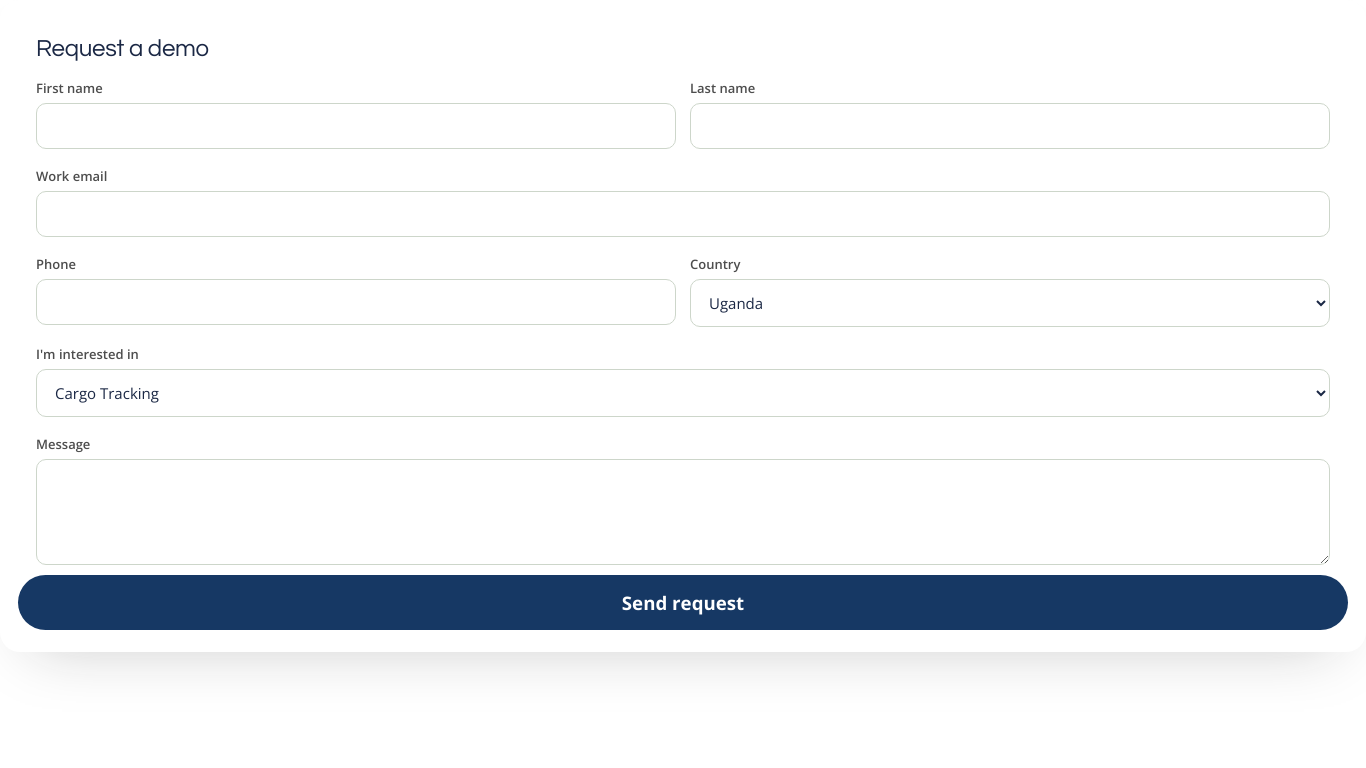
Test: ContactForm › submitting a complete form shows the sent state
Type "Ada" into the field labelled "First name" at (356, 126), box left=36, top=103, right=676, bottom=149
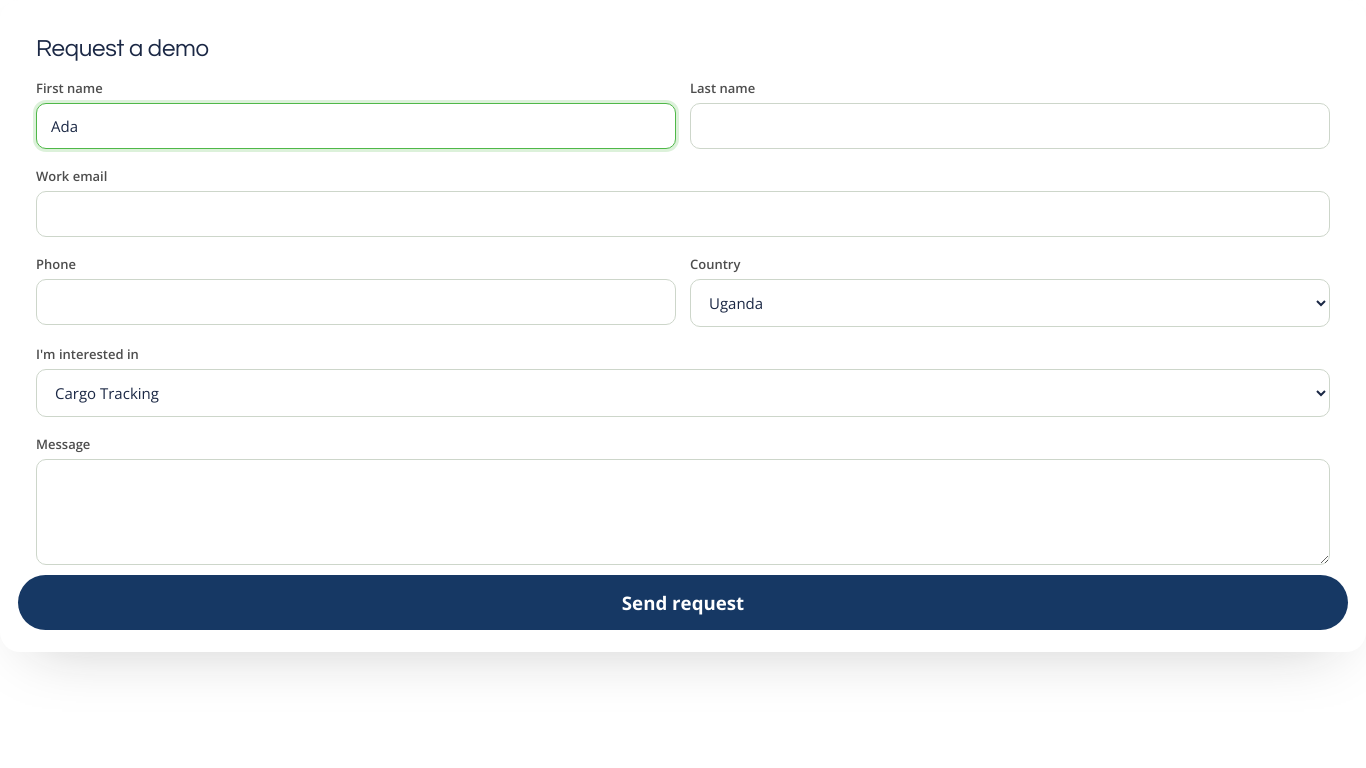
Type "Okello" into the field labelled "Last name" at (1010, 126), box left=690, top=103, right=1330, bottom=149
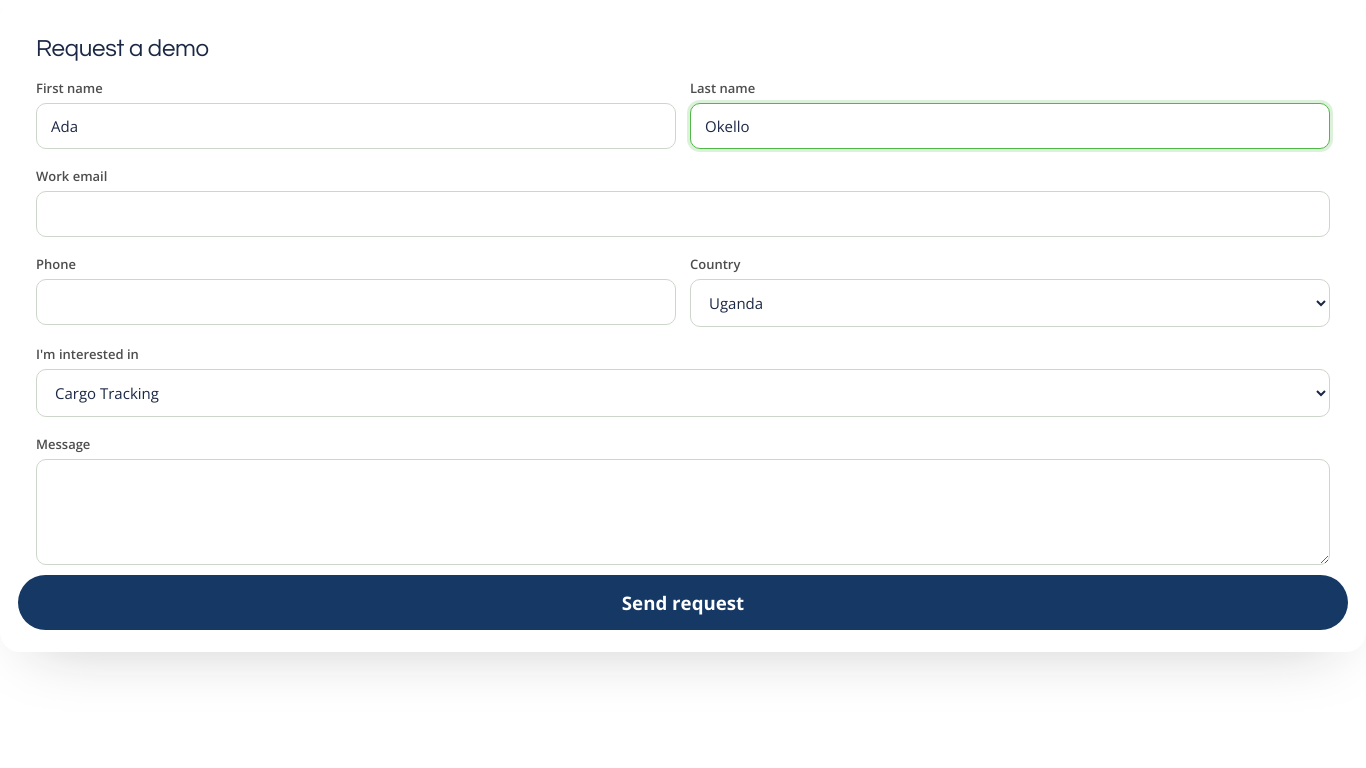
Type "ada@example.com" into the field labelled "Work email" at (683, 214), box left=36, top=191, right=1330, bottom=237
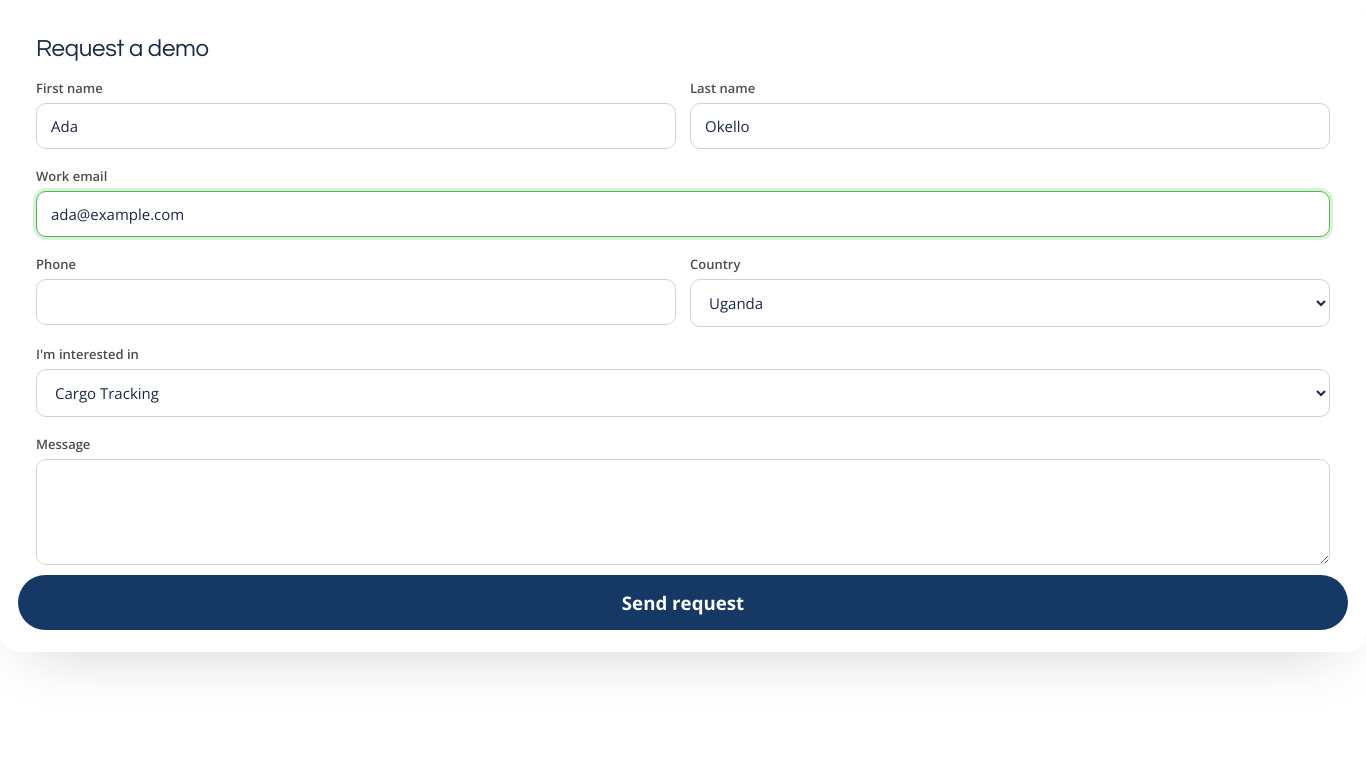
Type "+256700000000" into the field labelled "Phone" at (356, 302), box left=36, top=279, right=676, bottom=325
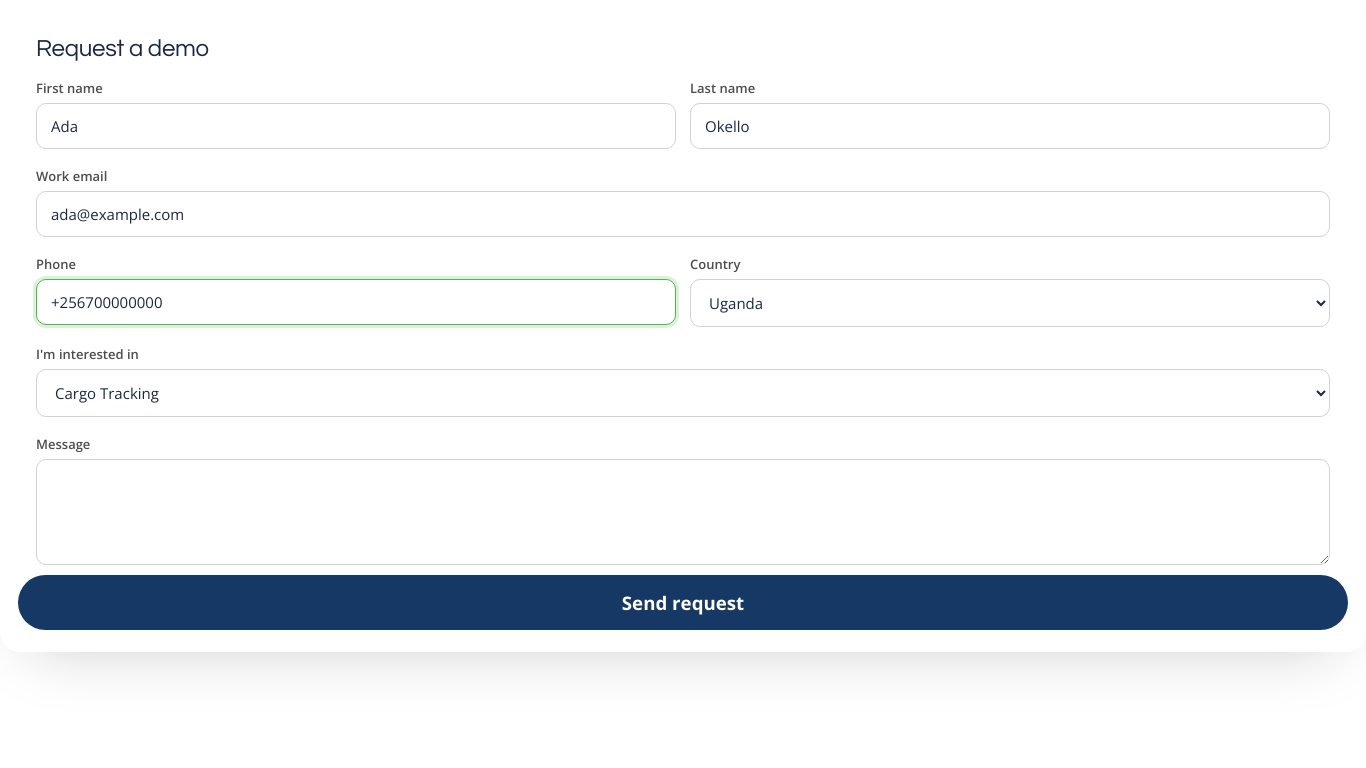
Type "Please call me about dash cameras." into the text box labelled "Message" at (683, 512), box left=36, top=459, right=1330, bottom=565
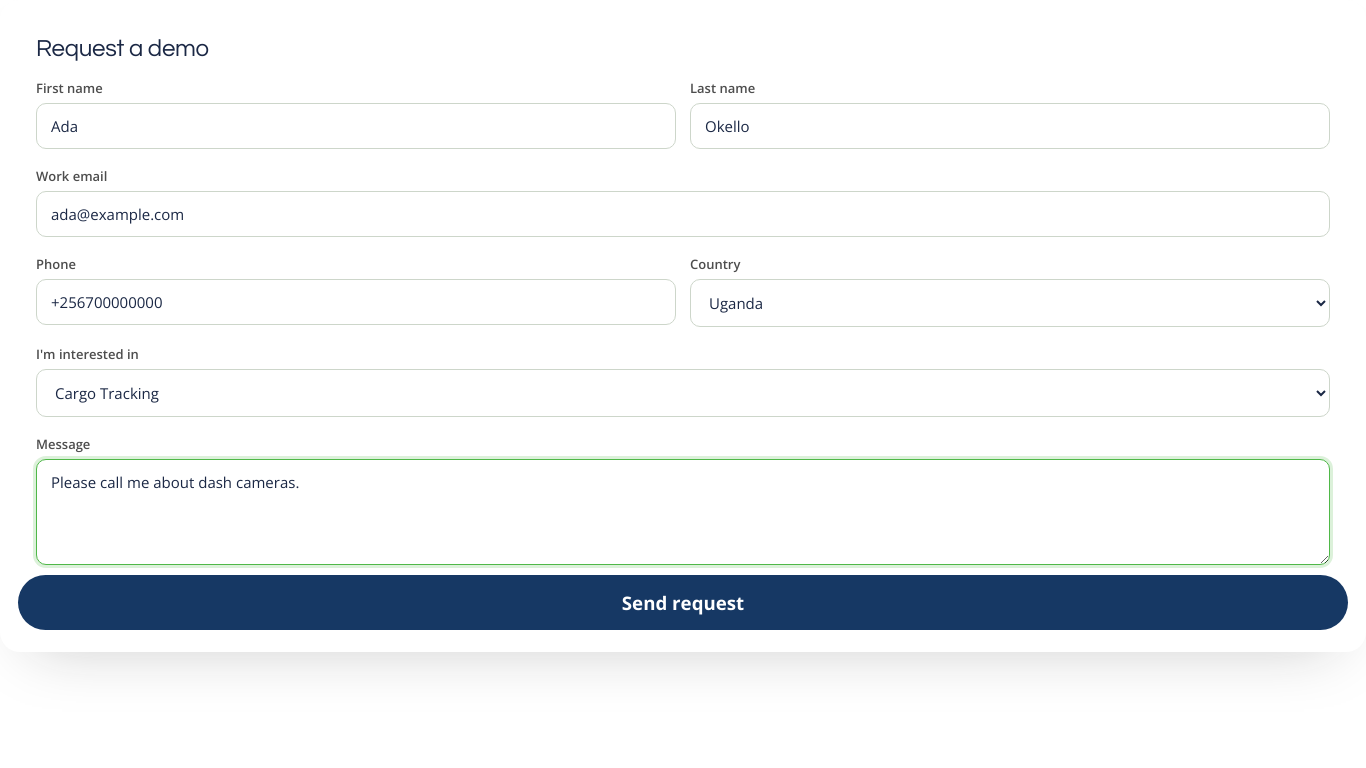
Click the button "Send request" at (683, 602), box left=18, top=575, right=1348, bottom=630
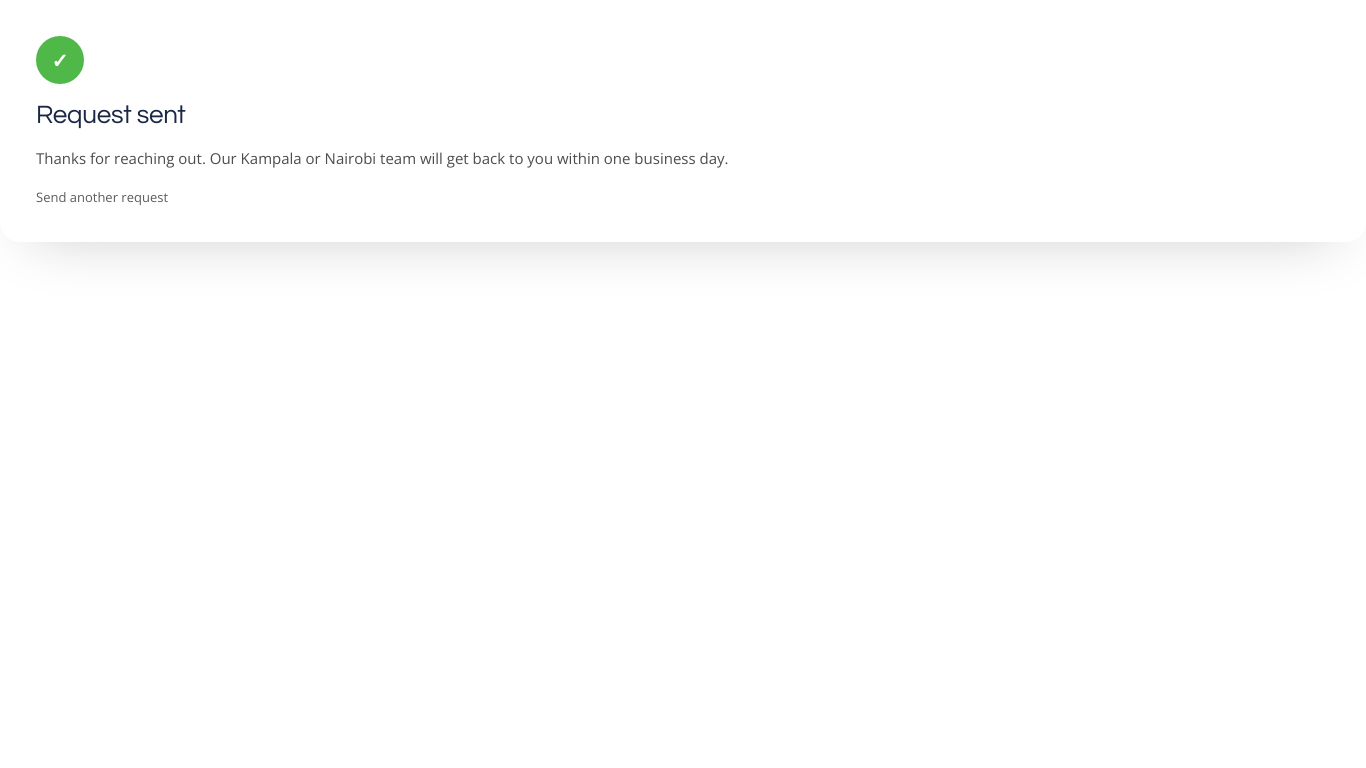
Result: the heading "Request sent" is shown at left=36, top=102, right=186, bottom=128
